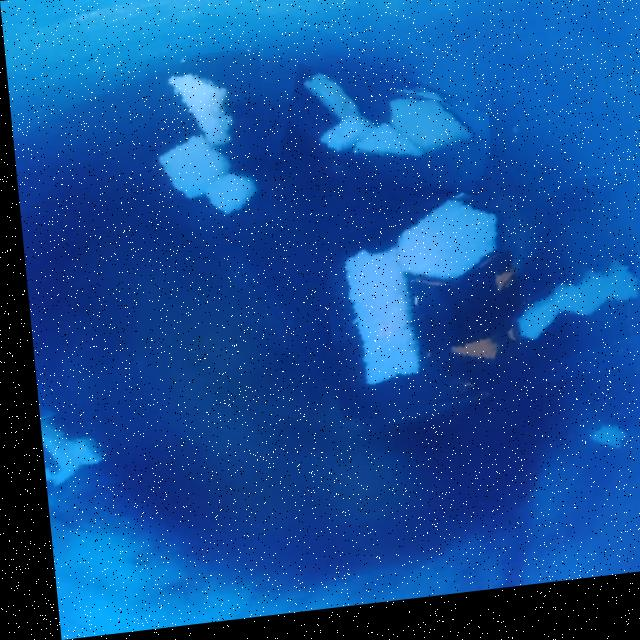thermocoal: (314, 185, 640, 429), (273, 67, 490, 208), (137, 52, 272, 251), (333, 228, 436, 402), (349, 77, 470, 182), (399, 210, 526, 306), (150, 59, 254, 170), (499, 304, 640, 385), (31, 402, 116, 497), (146, 136, 235, 210), (194, 175, 268, 245), (351, 117, 433, 179), (562, 421, 640, 485), (288, 93, 363, 151), (318, 127, 370, 183)
